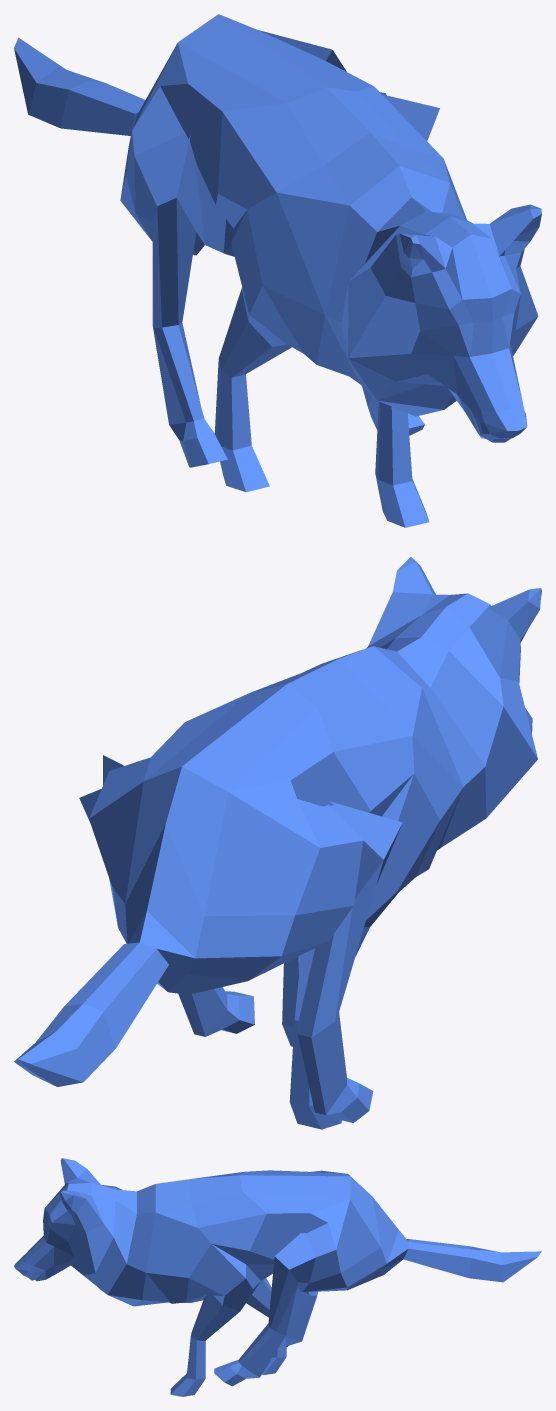
Rendered from wolfRunA_v009010.obj.
The picture shows the model from 3 angles, top to bottom: view 1: azimuth 30°, elevation 25°; view 2: azimuth 150°, elevation 25°; view 3: azimuth 270°, elevation 25°; orthographic projection. The views are drawn at different scales.
Visible parts, largest first — view 1: comp_wolf_rig:wolf_body comp_wolf_rig:wolf; view 2: comp_wolf_rig:wolf_body comp_wolf_rig:wolf; view 3: comp_wolf_rig:wolf_body comp_wolf_rig:wolf.
Boxes of the visible parts, left/top/right/bottom form: comp_wolf_rig:wolf_body comp_wolf_rig:wolf: left=14, top=14, right=541, bottom=527; comp_wolf_rig:wolf_body comp_wolf_rig:wolf: left=14, top=557, right=541, bottom=1129; comp_wolf_rig:wolf_body comp_wolf_rig:wolf: left=14, top=1158, right=541, bottom=1396.
Bounding box in the file's own units: 44.06 × 59.44 × 136.
